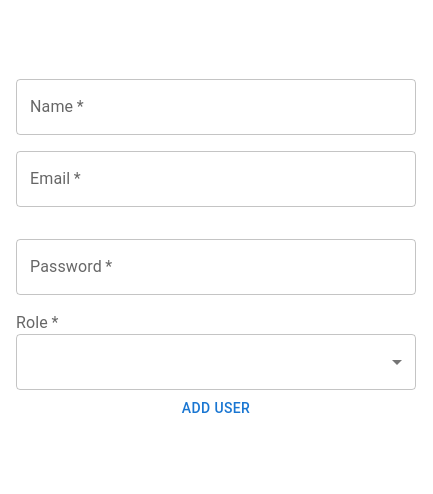
it: AddUserFormLeicht › shows error when password does not meet requirements
Type "weakpassword" into the field labelled "Password *" at (216, 267), box [16,239,416,295]
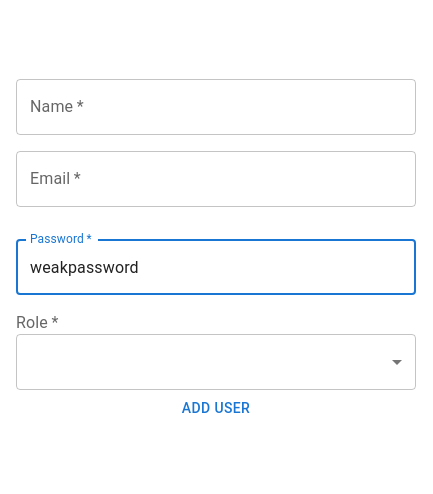
Click the button "Add User" at (216, 409), box [16,390,416,427]
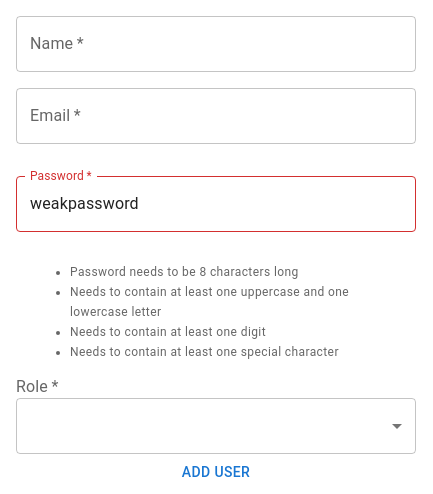
expect the list item "Password needs to be 8 characters long" is shown: met, box [70,265,299,279]
